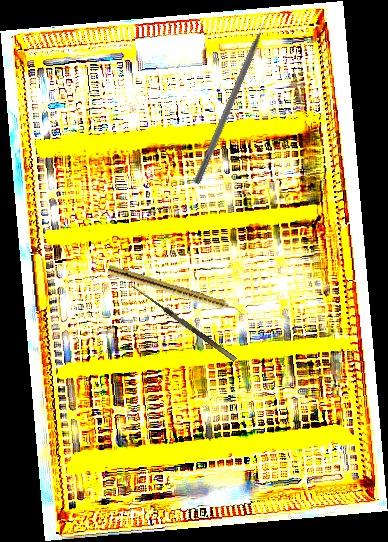Handpiece: (106, 264, 243, 318)
Hook Surgical: (192, 2, 277, 187), (127, 283, 237, 368)
